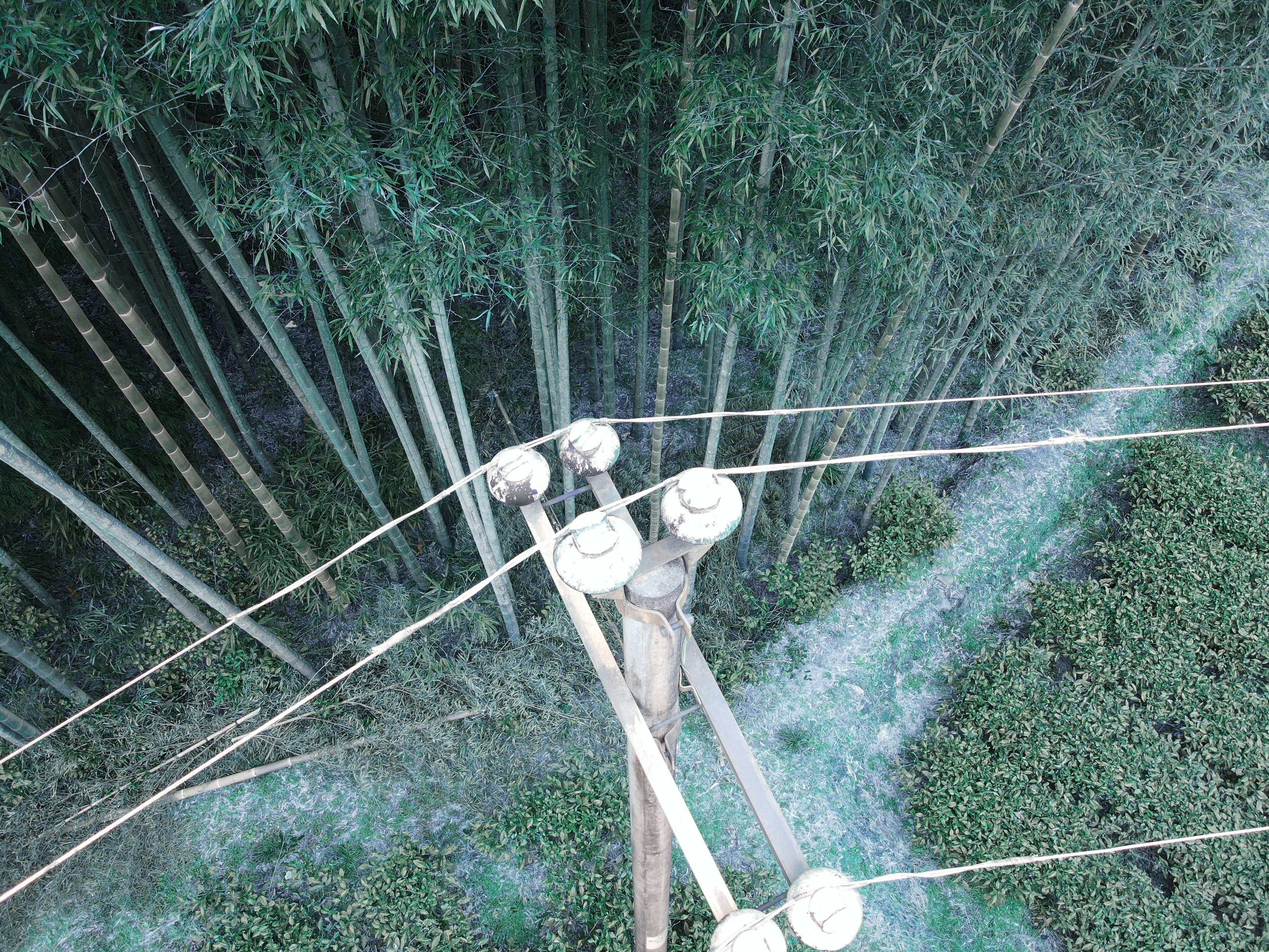severe_soiling_no_discharge_whole: (780, 863, 866, 951), (551, 512, 644, 593), (660, 466, 746, 544), (482, 442, 554, 508), (554, 417, 622, 476), (708, 905, 788, 951)
